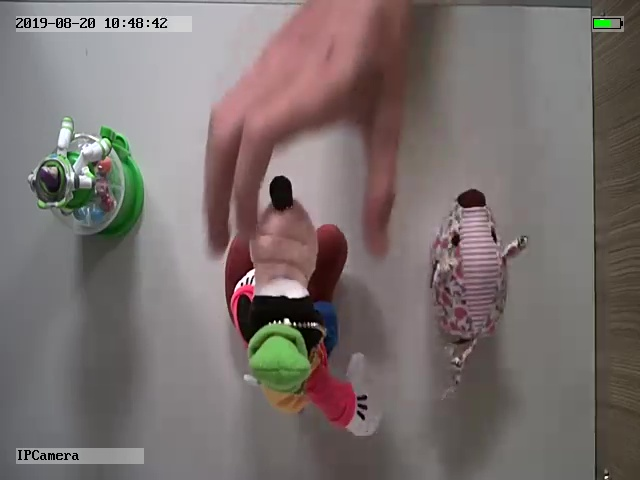buzz: (27, 116, 145, 242)
goofy: (225, 176, 382, 436)
pig: (426, 190, 529, 398)
